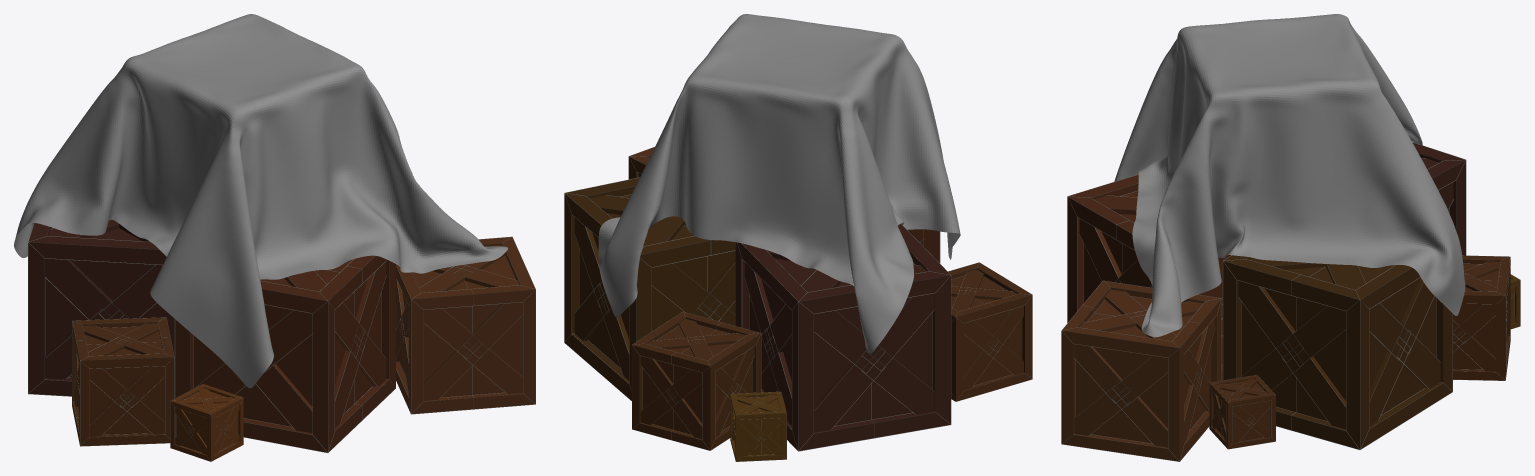
3 renders of one model, left to right at view 1: azimuth 30°, elevation 25°; view 2: azimuth 150°, elevation 25°; view 3: azimuth 270°, elevation 25°, orthographic.
Parts seen in each view (by area): view 1: Plane_4, Cube_0, Cube.006_7, Cube.001_1, Cube.004_5, Cube.008_9; view 2: Plane_4, Cube.001_1, Cube.002_2, Cube.005_6, Cube.004_5, Cube.009_10, Cube_0, Cube.006_7; view 3: Plane_4, Cube.002_2, Cube.006_7, Cube_0, Cube.005_6, Cube.007_8, Cube.001_1, Cube.009_10.
Part boxes in pixels (bbox=[...]): Plane_4: bbox=[14, 14, 507, 388]; Cube_0: bbox=[174, 255, 395, 452]; Cube.006_7: bbox=[396, 236, 535, 414]; Cube.001_1: bbox=[28, 219, 174, 396]; Cube.004_5: bbox=[72, 317, 174, 446]; Cube.008_9: bbox=[170, 384, 243, 461]; Plane_4: bbox=[598, 14, 960, 353]; Cube.001_1: bbox=[735, 223, 951, 451]; Cube.002_2: bbox=[564, 177, 735, 400]; Cube.005_6: bbox=[632, 311, 761, 450]; Cube.004_5: bbox=[948, 262, 1032, 401]; Cube.009_10: bbox=[730, 391, 786, 461]; Cube_0: bbox=[908, 229, 940, 263]; Cube.006_7: bbox=[628, 147, 654, 179]; Plane_4: bbox=[1114, 14, 1465, 337]; Cube.002_2: bbox=[1222, 255, 1452, 449]; Cube.006_7: bbox=[1061, 280, 1221, 461]; Cube_0: bbox=[1067, 174, 1230, 380]; Cube.005_6: bbox=[1453, 255, 1510, 380]; Cube.007_8: bbox=[1209, 375, 1275, 449]; Cube.001_1: bbox=[1412, 142, 1466, 255]; Cube.009_10: bbox=[1510, 274, 1520, 329].
Size of the model in its own units: 5.81 by 4.07 by 5.55.
